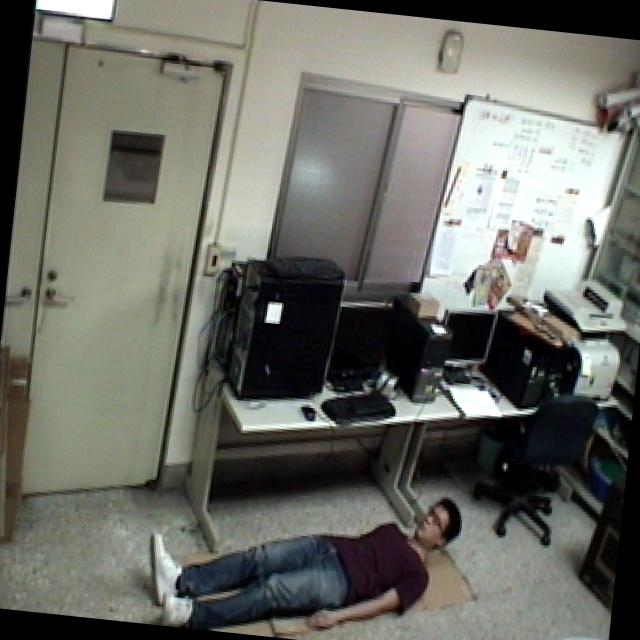lie: (138, 455, 476, 640)
